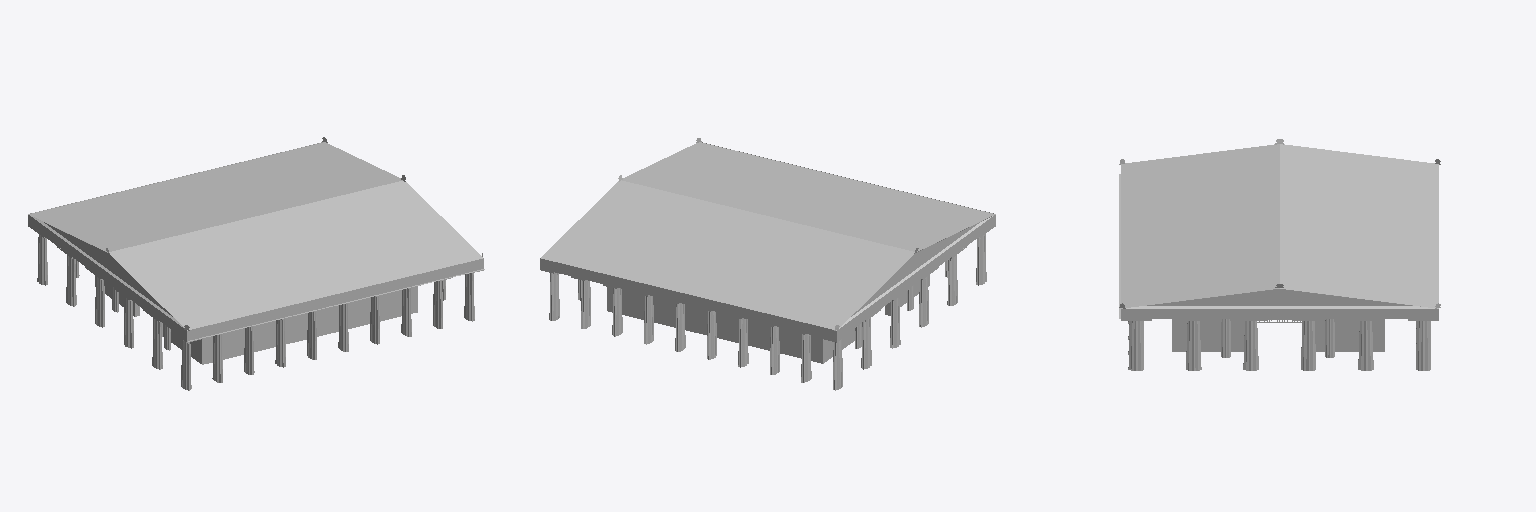
File: temple.obj
The picture shows the model from 3 angles: view 1: azimuth 30°, elevation 25°; view 2: azimuth 150°, elevation 25°; view 3: azimuth 270°, elevation 25°; orthographic projection.
Visible parts, largest first — view 1: roof_12, outer_colu_11, roof_side_13, walls_15, metopes_10; view 2: roof_12, outer_colu_11, roof_side_13, walls_15, metopes_10; view 3: roof_12, outer_colu_11, metopes_10, roof_side_13, walls_15.
Part boxes in pixels (x1,y1,x2,y2): roof_12: (28,142,482,330); outer_colu_11: (28,225,483,390); roof_side_13: (28,142,483,340); walls_15: (95,276,417,364); metopes_10: (31,216,183,327); roof_12: (541,142,995,330); outer_colu_11: (540,225,995,390); roof_side_13: (540,142,995,340); walls_15: (607,275,929,363); metopes_10: (839,216,992,328); roof_12: (1121,144,1438,308); outer_colu_11: (1121,319,1438,370); metopes_10: (1126,289,1434,308); roof_side_13: (1121,309,1438,318); walls_15: (1172,319,1384,351).
Bounding box in the file's own units: 0.7394 × 0.2109 × 0.6913.